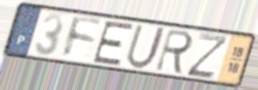3: (34, 12, 66, 57)
E: (90, 19, 136, 67)
F: (61, 14, 104, 60)
R: (153, 27, 195, 76)
U: (124, 23, 168, 71)
Z: (184, 31, 231, 81)
